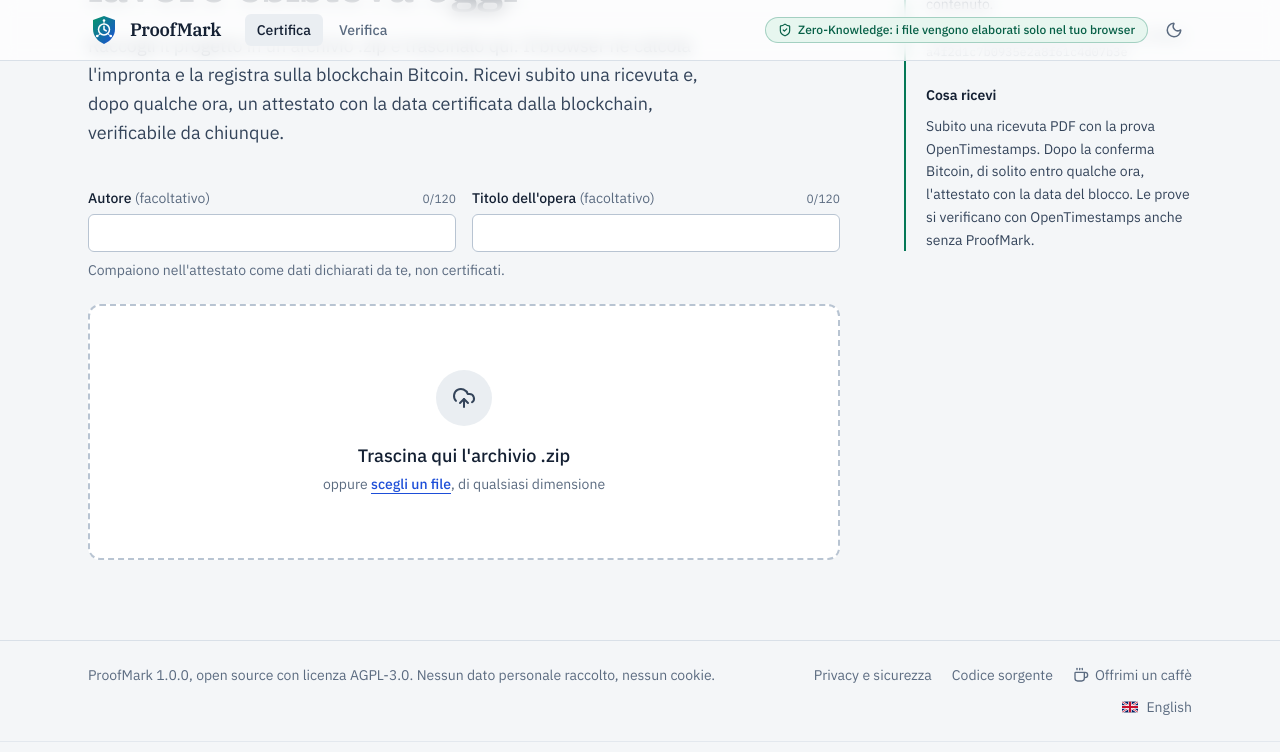
Privacy e sicurezza › is linked from the footer and has its own address
(page scrolled)
Click the link "Privacy e sicurezza": (873, 675) [814, 665, 932, 685]
(page scrolled)
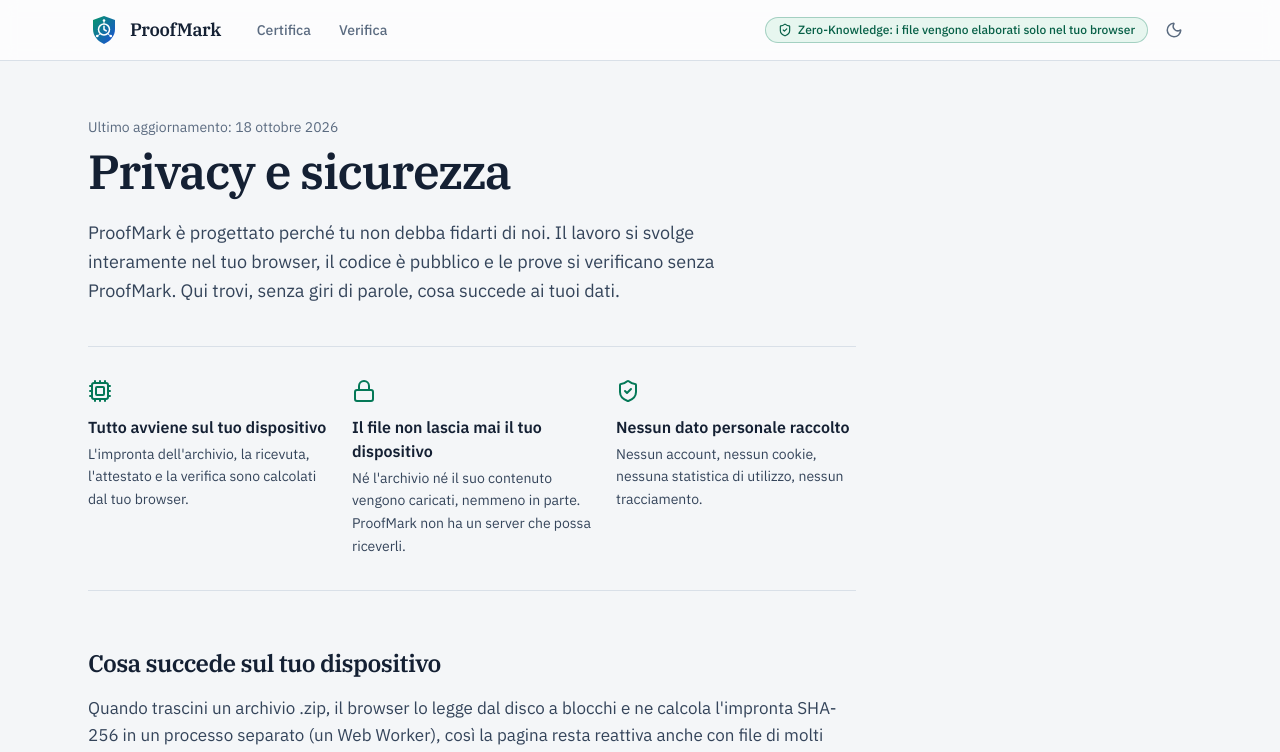
Check: the heading "Privacy e sicurezza" is shown, box [88, 140, 511, 202]
